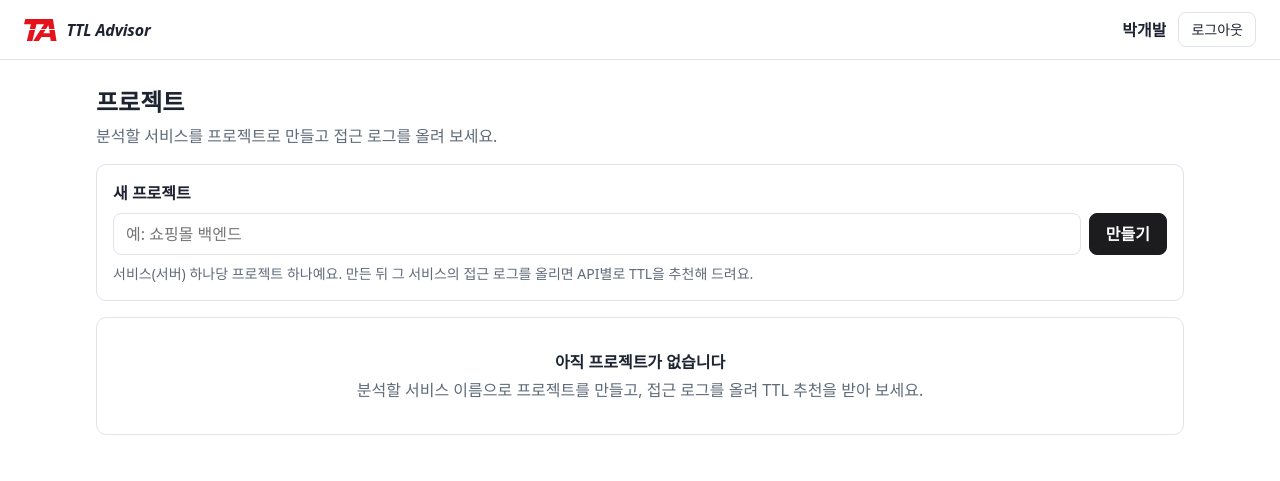
Scenario: 프로젝트 생성 › 서버 검증 오류는 필드 사유를 보여 준다
In the field labelled "새 프로젝트": (597, 234) 113,213 -> 1081,255, type "상품 API"
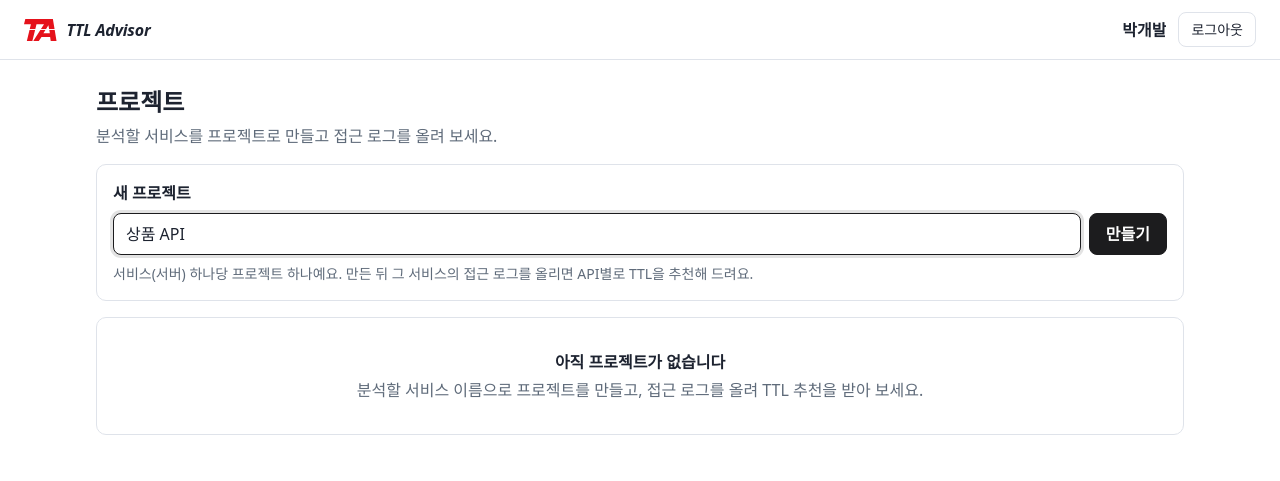
Click the button "만들기": (1128, 234) 1089,213 -> 1167,255
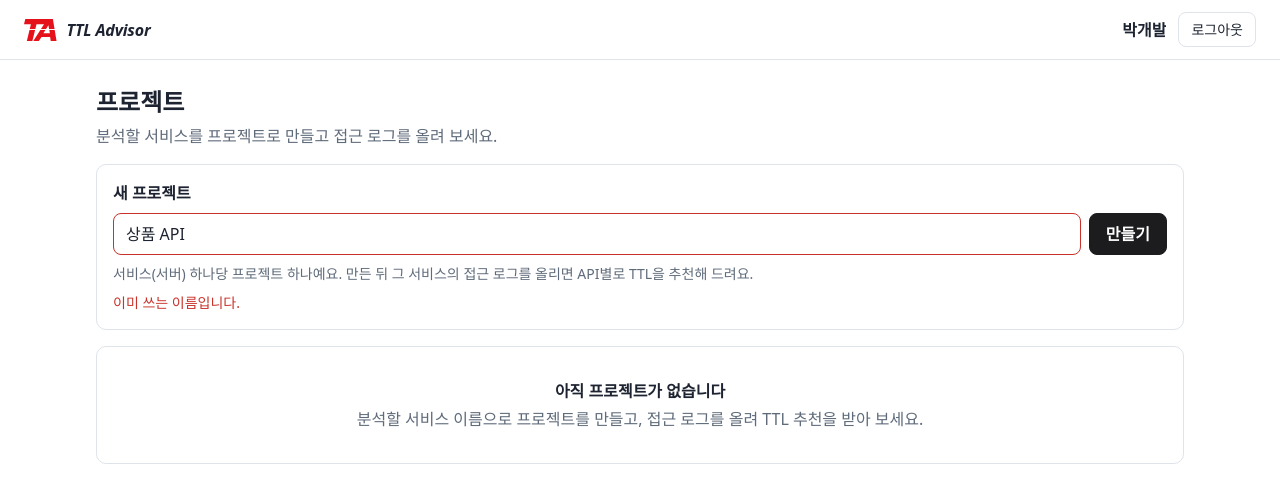
Now the text "이미 쓰는 이름입니다." is shown, box 113,293 -> 240,312
